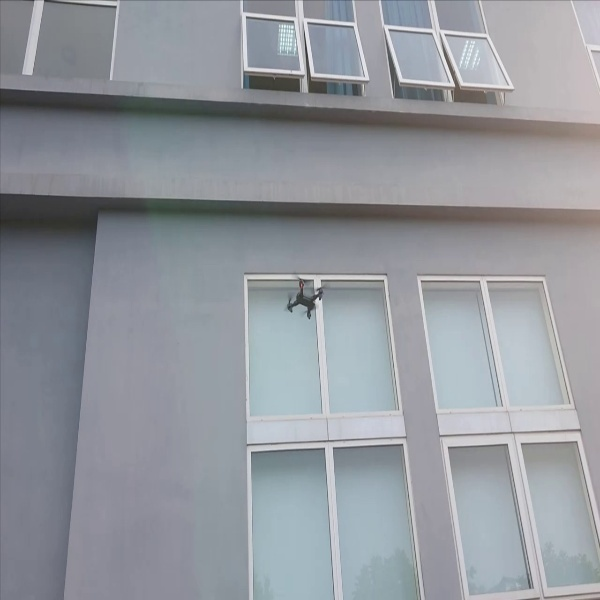drone: (276, 268, 328, 324)
